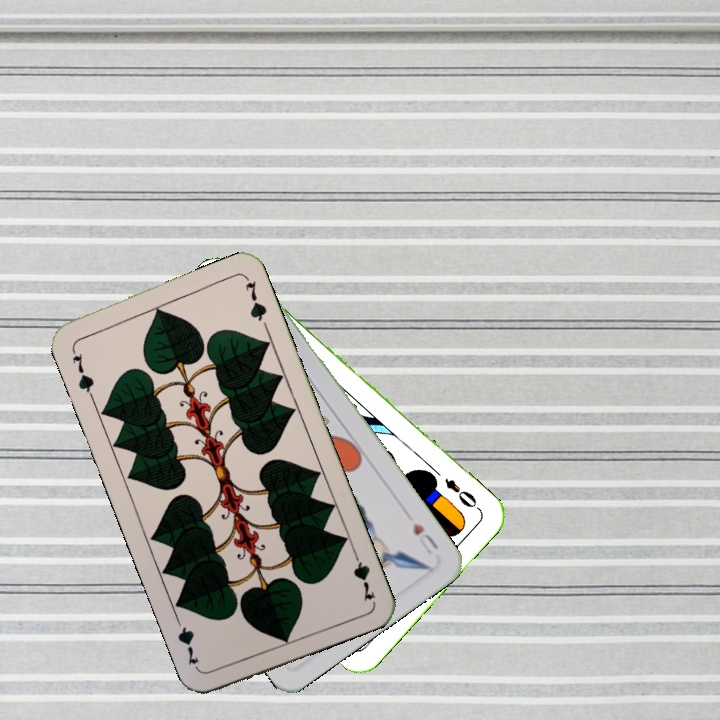EO: (440, 474, 483, 513)
G7: (348, 546, 378, 604), (67, 344, 97, 401)
HU: (408, 518, 441, 558)
